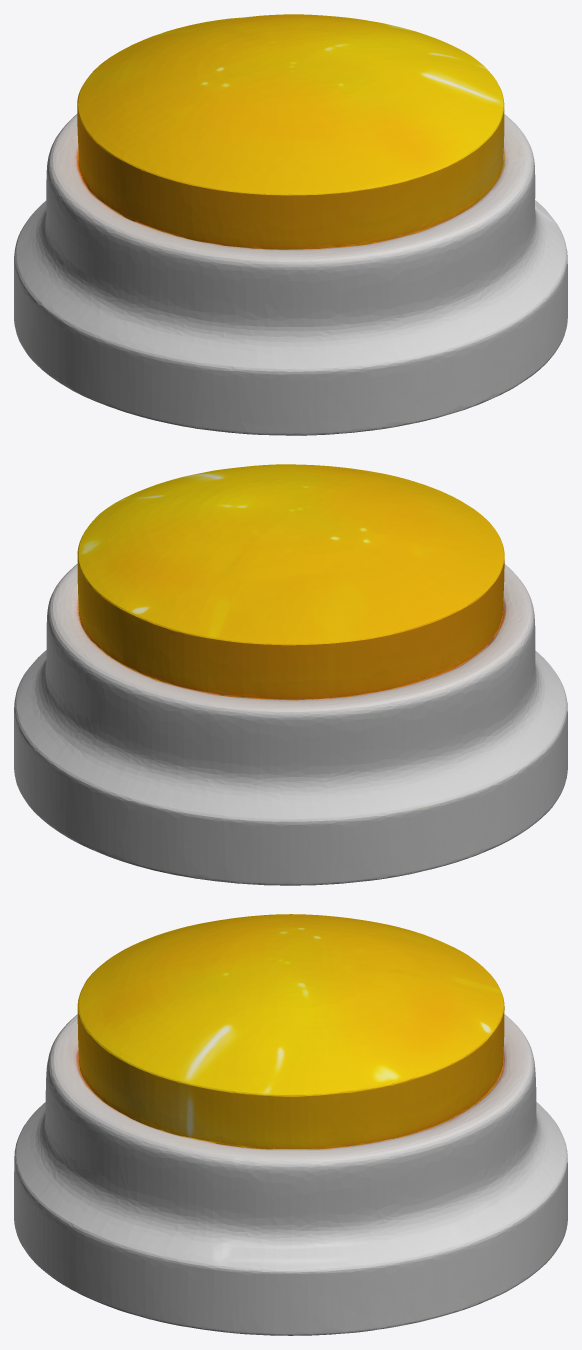
3 renders of one model, top to bottom at view 1: azimuth 30°, elevation 25°; view 2: azimuth 150°, elevation 25°; view 3: azimuth 270°, elevation 25°, orthographic.
Visible parts, largest first — view 1: world; view 2: world; view 3: world.
Boxes of the visible parts, <box> form: world: <box>14,14,567,435</box>; world: <box>14,464,567,885</box>; world: <box>14,914,567,1335</box>.
Bounding box in the file's own units: 0.9998 × 0.5132 × 1.
Materials: 1 (1 with a texture image).
